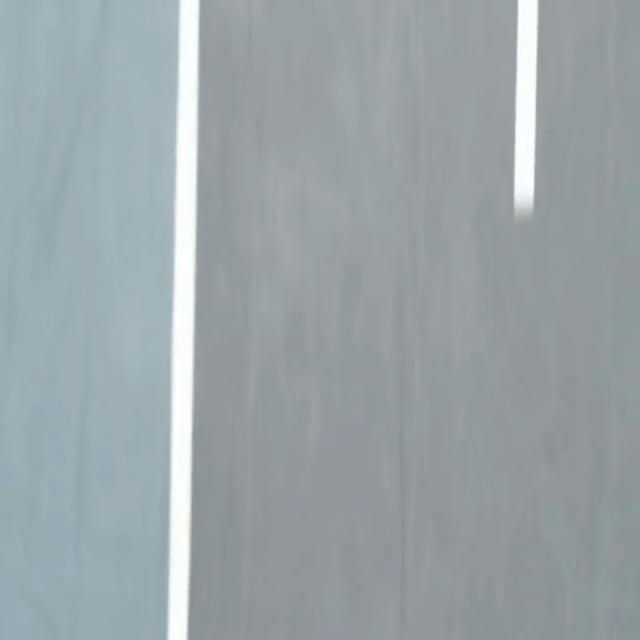center: (514, 0, 538, 218)
left: (167, 0, 199, 639)
